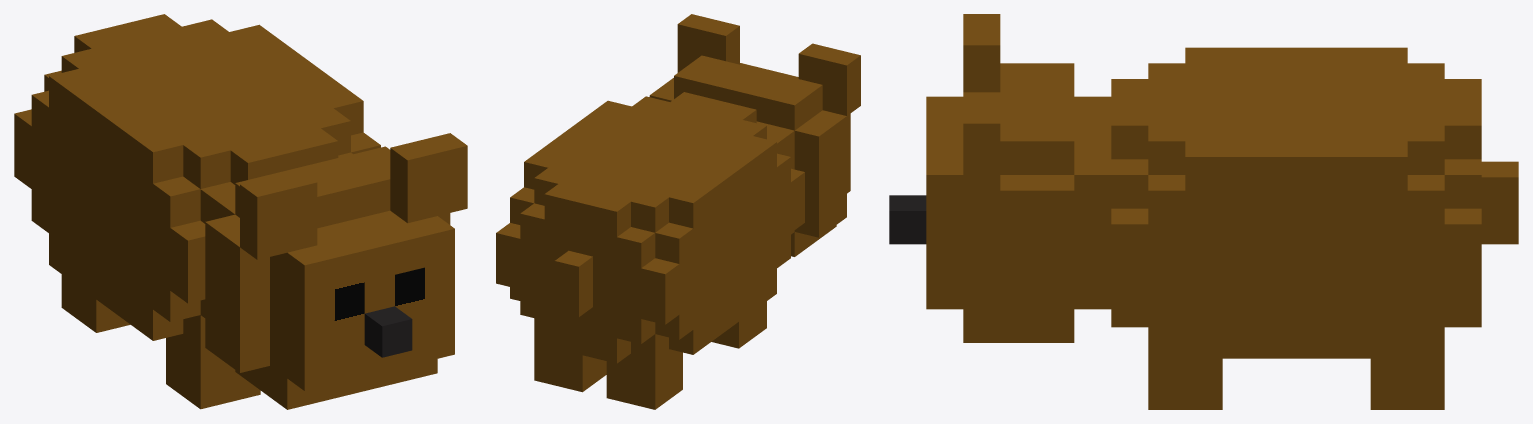
Rendered from Ours.dae.
3 renders of one model, left to right at view 1: azimuth 30°, elevation 25°; view 2: azimuth 150°, elevation 25°; view 3: azimuth 270°, elevation 25°, orthographic. The views are drawn at different scales.
Parts seen in each view (by area): view 1: Corps_Ours, Tete_Ours, Pate_Avant_D_Ours, Pate_Arriere_D_Ours; view 2: Corps_Ours, Tete_Ours, Pate_Arriere_D_Ours, Pate_Arriere_G_Ours, Pate_Avant_D_Ours; view 3: Corps_Ours, Tete_Ours, Pate_Avant_G_Ours_0, Pate_Arriere_G_Ours.
Boxes of the visible parts, x1=… form: Corps_Ours: x1=14, y1=14, x2=380, y2=346; Tete_Ours: x1=205, y1=133, x2=467, y2=409; Pate_Avant_D_Ours: x1=166, y1=334, x2=260, y2=409; Pate_Arriere_D_Ours: x1=61, y1=274, x2=130, y2=332; Corps_Ours: x1=496, y1=92, x2=804, y2=363; Tete_Ours: x1=649, y1=14, x2=860, y2=256; Pate_Arriere_D_Ours: x1=606, y1=349, x2=682, y2=409; Pate_Arriere_G_Ours: x1=534, y1=330, x2=606, y2=392; Pate_Avant_D_Ours: x1=711, y1=301, x2=766, y2=348; Corps_Ours: x1=1111, y1=47, x2=1518, y2=358; Tete_Ours: x1=889, y1=14, x2=1111, y2=342; Pate_Avant_G_Ours_0: x1=1148, y1=343, x2=1222, y2=409; Pate_Arriere_G_Ours: x1=1370, y1=343, x2=1444, y2=409.
Bounding box in the file's own units: 7 × 9 × 17.
1 material, 1 textured.
